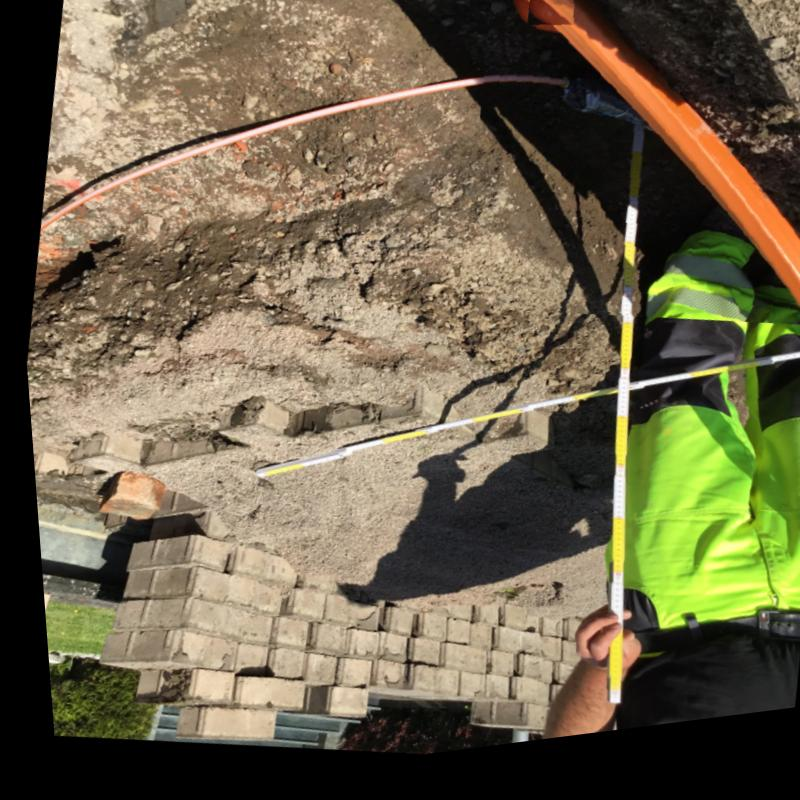Kugelmarker: (529, 4, 572, 40)
Orang-Speednetrohrchen: (526, 0, 800, 325)
